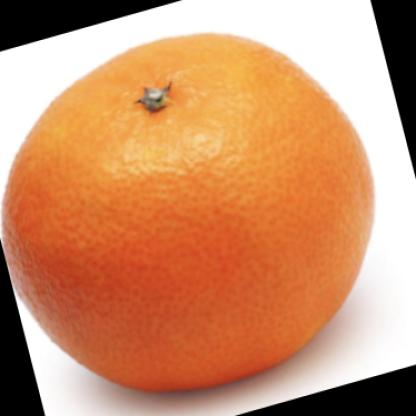fresh: (6, 36, 377, 393)
